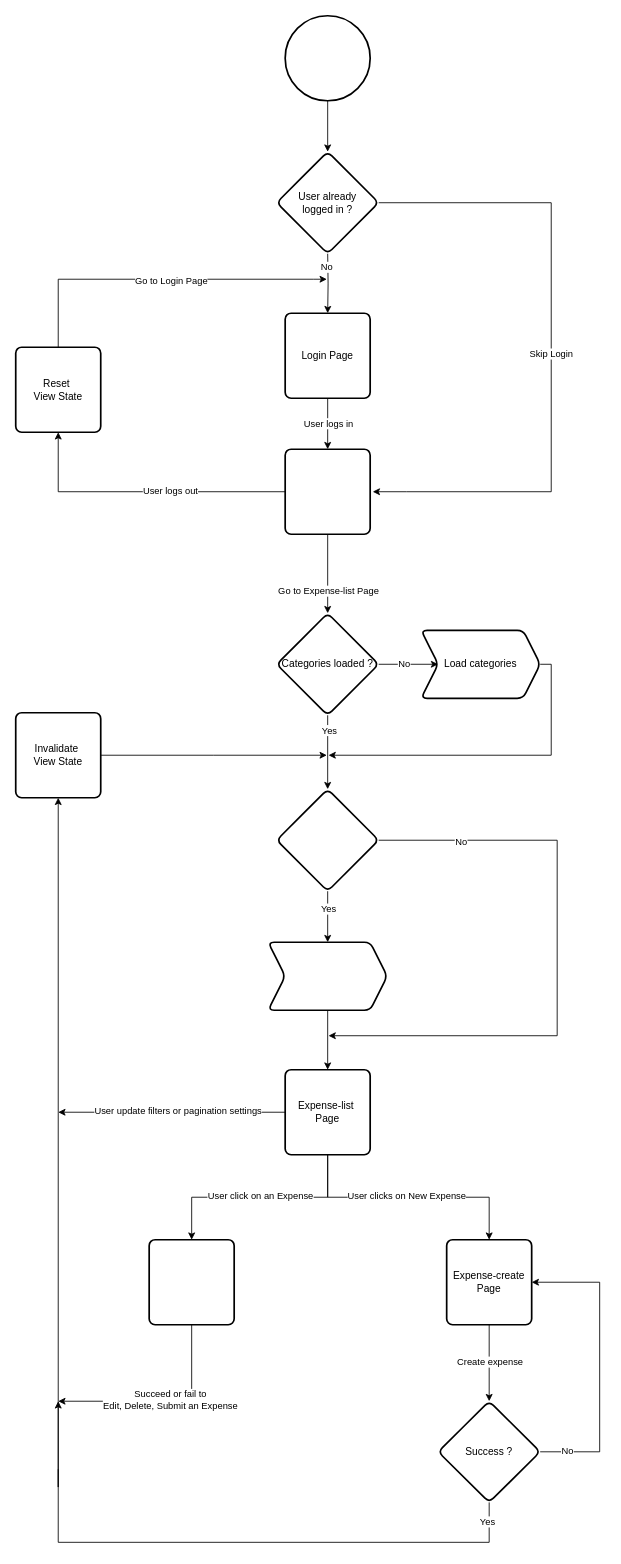
Image size: 621x1564. Some labels were removed from this diagram. Here are the shapes that lost their labels. From the top down, the box of each, then its label:
(284, 14, 371, 101): Connects to App
(284, 448, 371, 535): Dashboard Page
(275, 788, 379, 892): View state stale ?
(267, 941, 388, 1011): Load View state
(148, 1238, 235, 1325): Expense-detail Page
